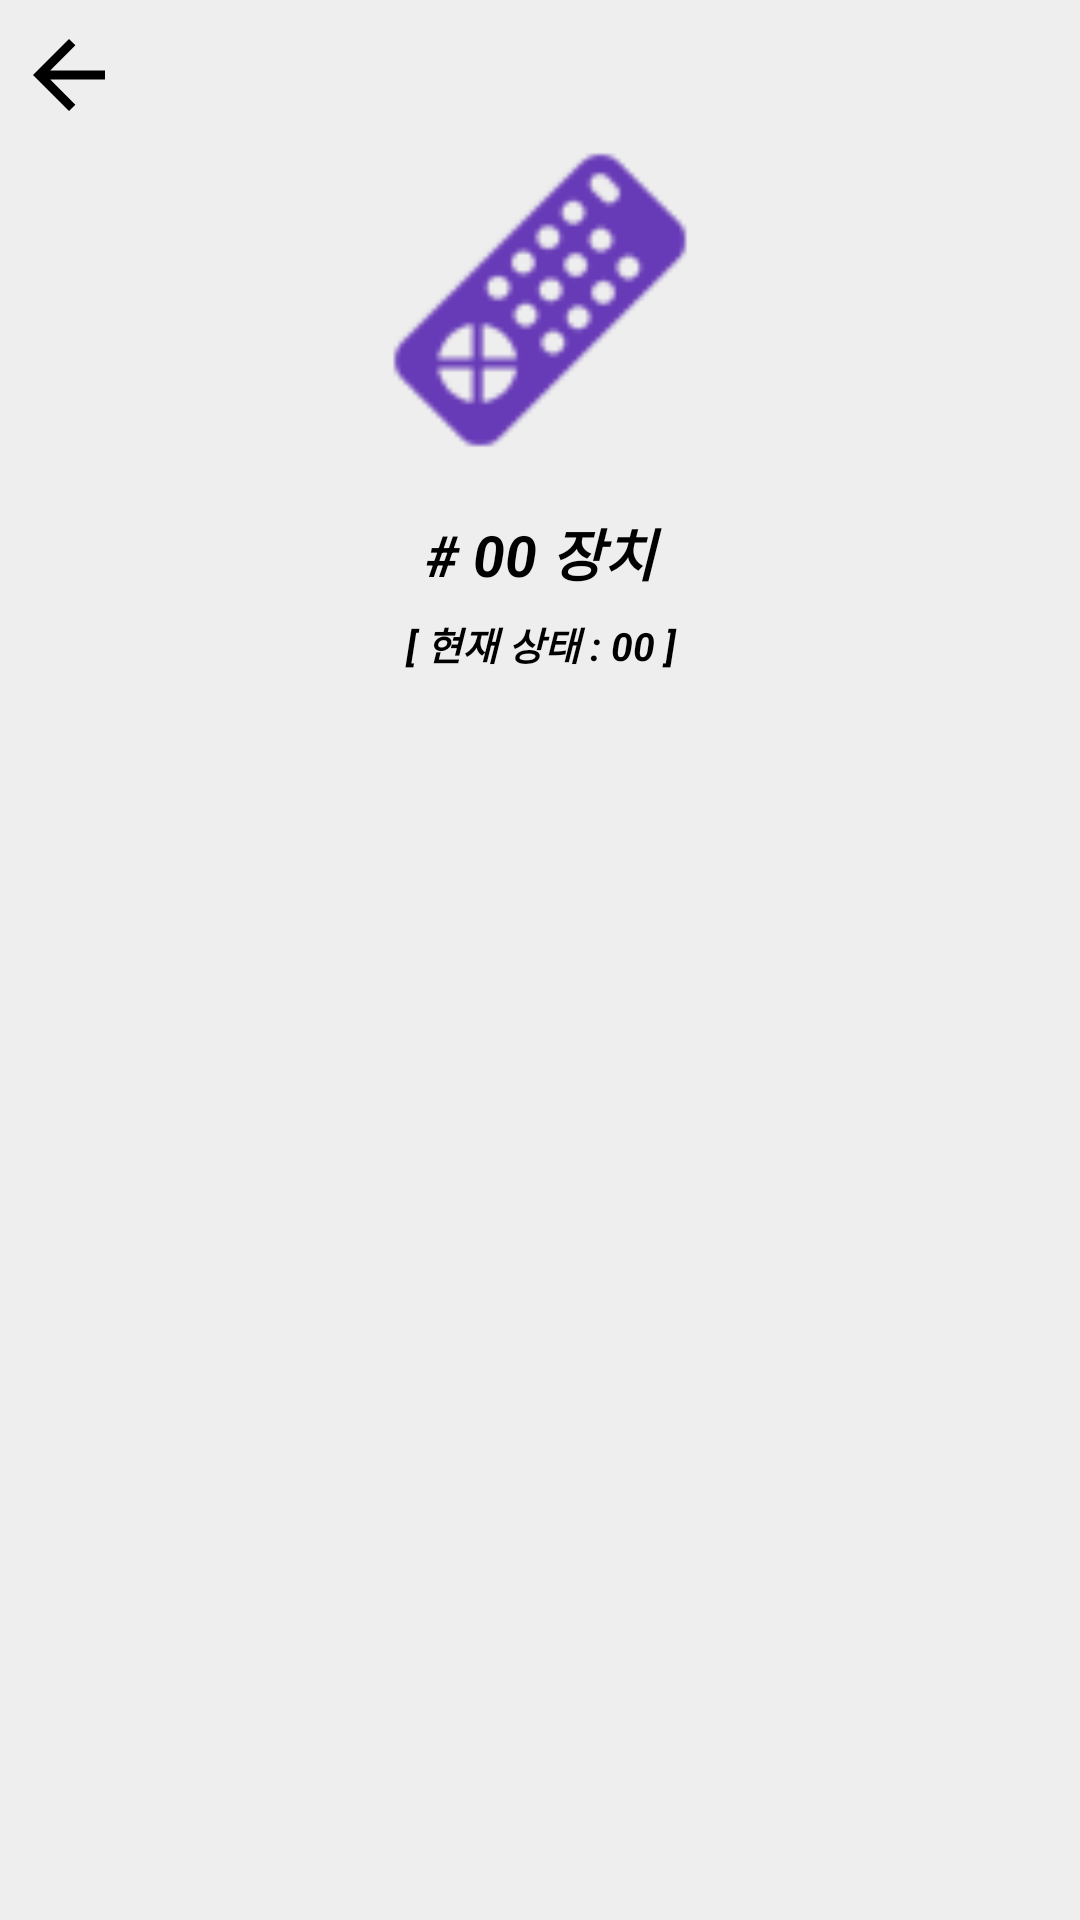

Named icons in this screenshot (1080 × 1920) and their centers, point (x, y):
arrow back maincolor: point (69, 75)
remote: point (540, 300)
